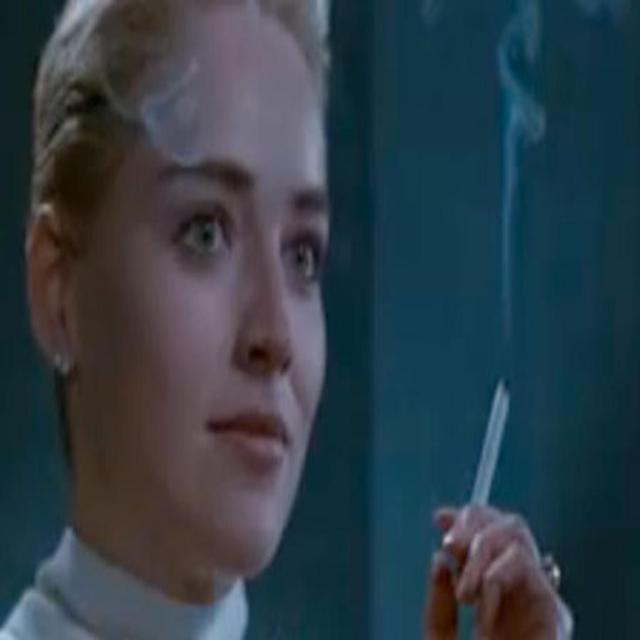smoking: (26, 1, 554, 620)
